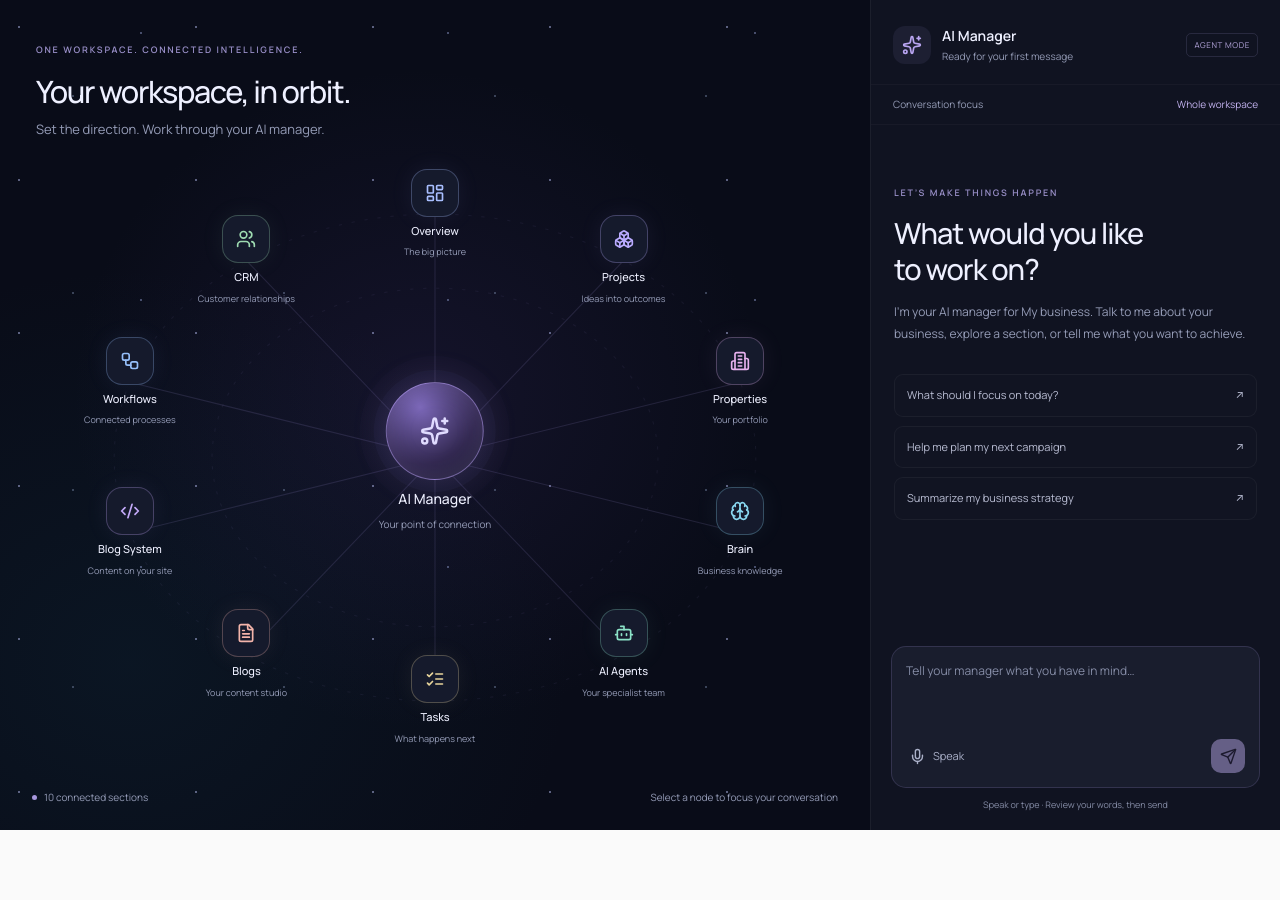
Test case: voice transcription stays in the draft and stops when Human Mode opens
The image size is (1280, 900).
Click the button with aria-label "Start voice input": click(937, 756) [906,740,967,773]
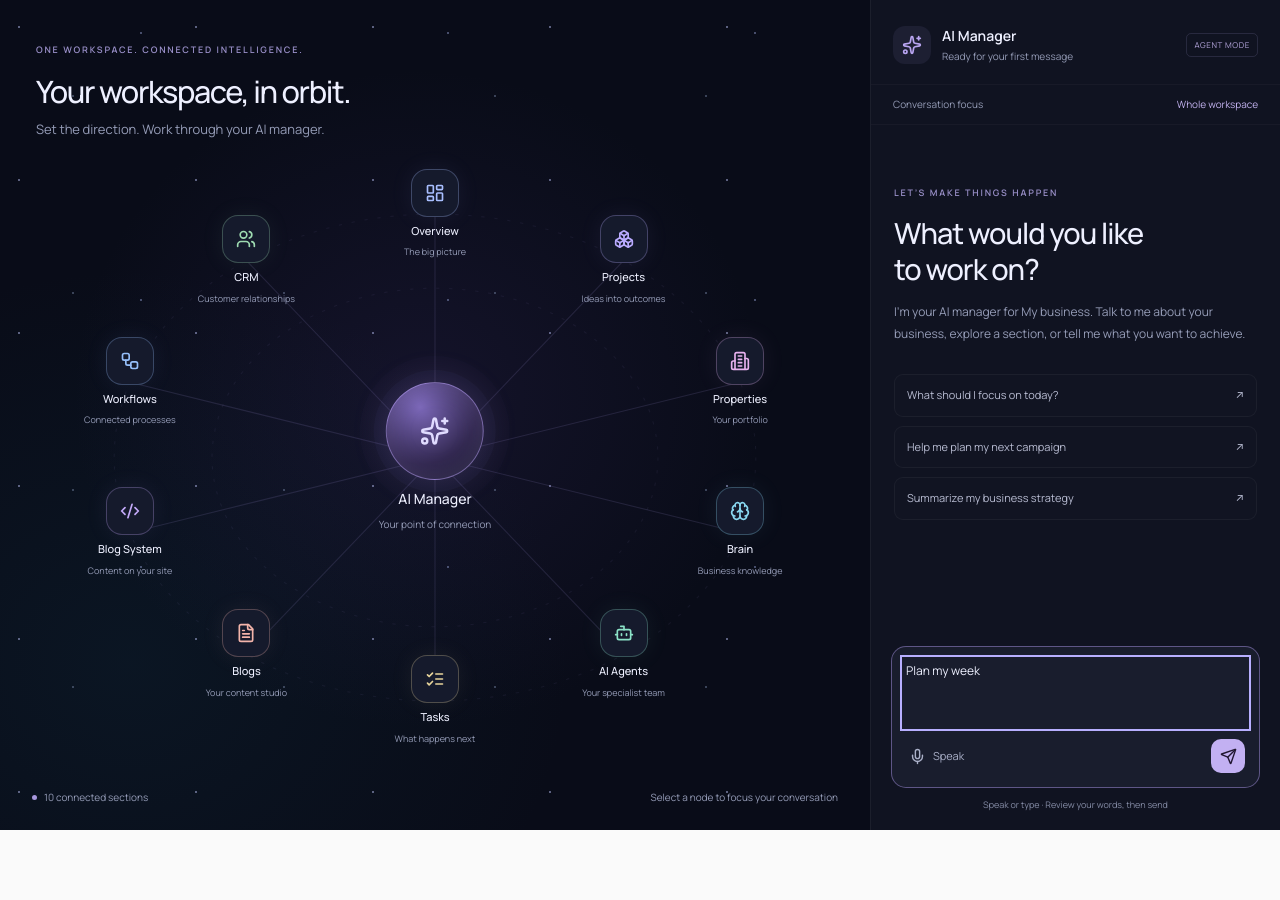
Check: the text box named "Message AI manager" holds "Plan my week", box [906,661,1245,725]
